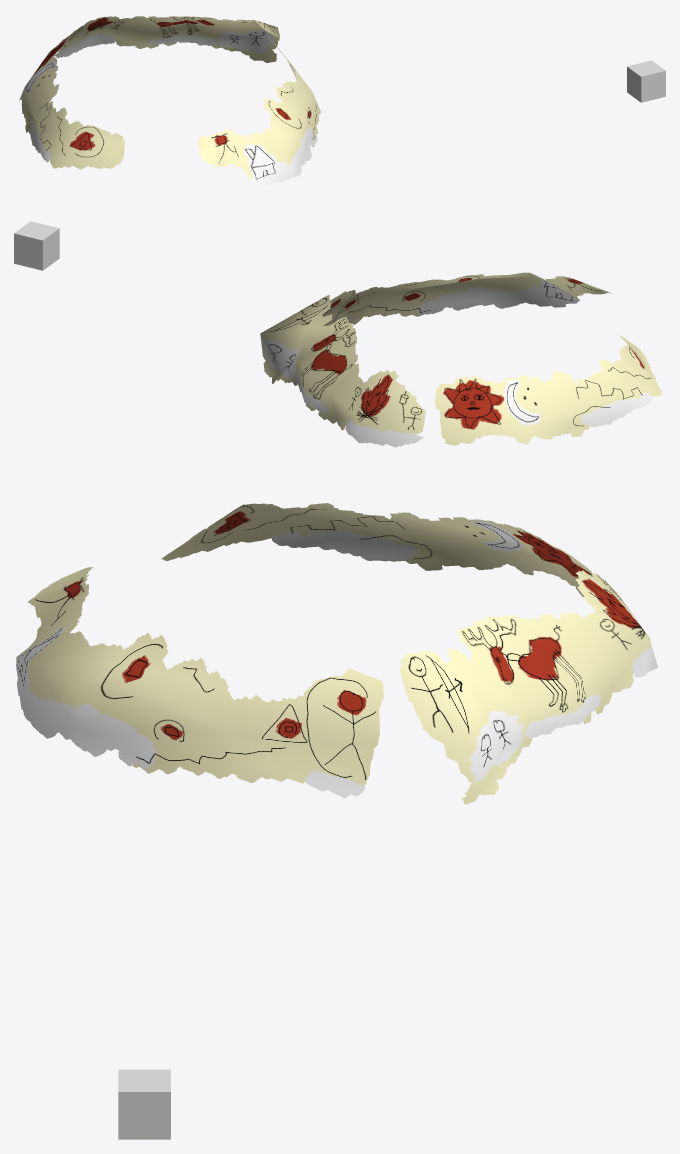
Rendered from Cave paintings 01.FBX.
The picture shows the model from 3 angles, top to bottom: view 1: azimuth 30°, elevation 25°; view 2: azimuth 150°, elevation 25°; view 3: azimuth 270°, elevation 25°; orthographic projection. The views are drawn at different scales.
Parts seen in each view (by area): view 1: Second room cave paintings, human height cube ORIGIN POINT; view 2: Second room cave paintings, human height cube ORIGIN POINT; view 3: Second room cave paintings, human height cube ORIGIN POINT.
Part boxes in pixels (x1,y1,x2,y2): Second room cave paintings: (19, 16, 320, 184); human height cube ORIGIN POINT: (627, 60, 665, 102); Second room cave paintings: (260, 272, 662, 447); human height cube ORIGIN POINT: (14, 221, 59, 270); Second room cave paintings: (16, 503, 657, 804); human height cube ORIGIN POINT: (118, 1069, 170, 1139).
Size of the model in its own units: 4199 by 709 by 2229.
